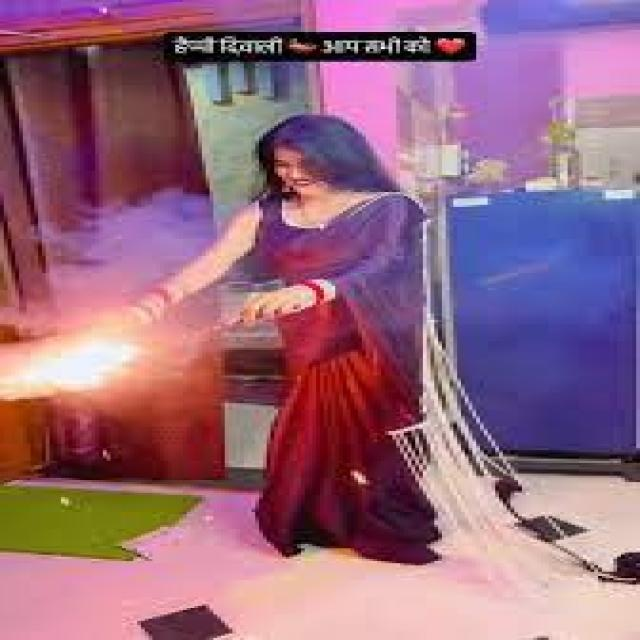fire: (21, 335, 144, 389)
